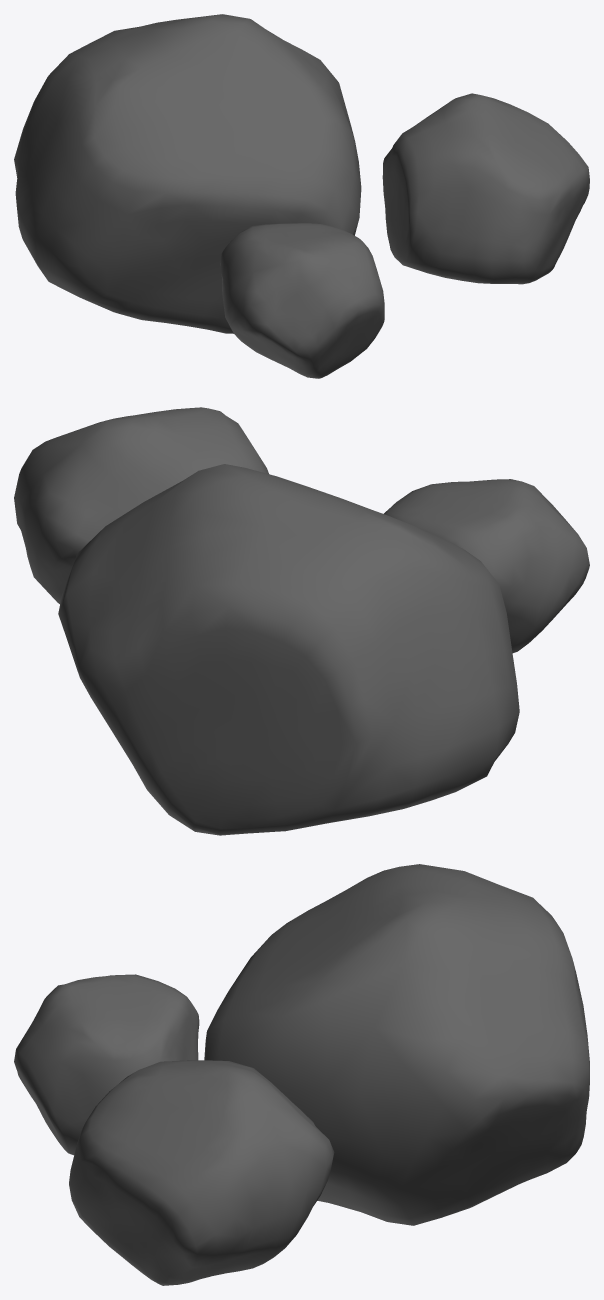
Rendered from Tas_Parcalari.fbx.
3 views of the same model, one above another, from view 1: azimuth 30°, elevation 25°; view 2: azimuth 150°, elevation 25°; view 3: azimuth 270°, elevation 25° (orthographic). The views are drawn at different scales.
Parts seen in each view (by area): view 1: PM3D_Sphere3D, PM3D_Sphere3D.001, PM3D_Sphere3D.002; view 2: PM3D_Sphere3D, PM3D_Sphere3D.001, PM3D_Sphere3D.002; view 3: PM3D_Sphere3D, PM3D_Sphere3D.001, PM3D_Sphere3D.002.
Boxes of the visible parts, left/top/right/bottom form: PM3D_Sphere3D: left=14, top=14, right=361, bottom=333; PM3D_Sphere3D.001: left=382, top=93, right=589, bottom=284; PM3D_Sphere3D.002: left=220, top=223, right=384, bottom=378; PM3D_Sphere3D: left=58, top=464, right=519, bottom=835; PM3D_Sphere3D.001: left=14, top=407, right=268, bottom=603; PM3D_Sphere3D.002: left=384, top=479, right=589, bottom=652; PM3D_Sphere3D: left=204, top=864, right=589, bottom=1225; PM3D_Sphere3D.001: left=69, top=1060, right=334, bottom=1285; PM3D_Sphere3D.002: left=14, top=974, right=199, bottom=1155.
Bounding box in the file's own units: 52.47 × 28.85 × 48.46.
